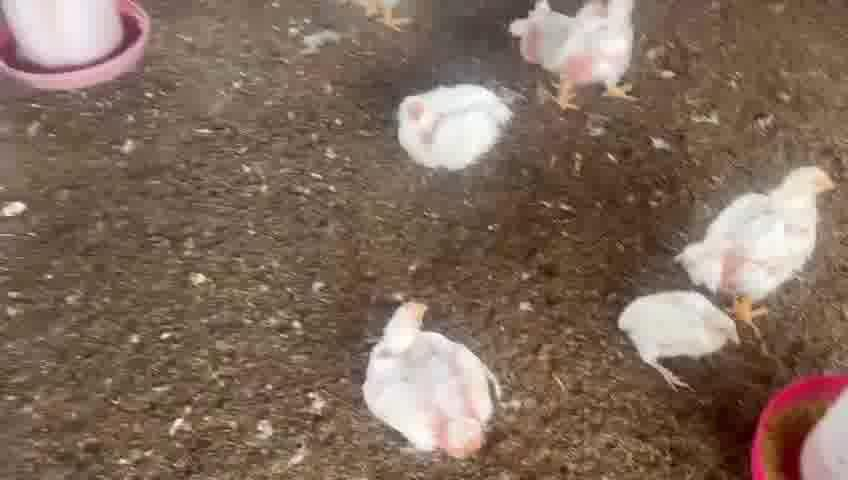AbNormal: (626, 278, 764, 395)
Normal: (360, 295, 503, 455), (680, 160, 836, 304), (514, 0, 655, 111), (375, 75, 521, 174)
